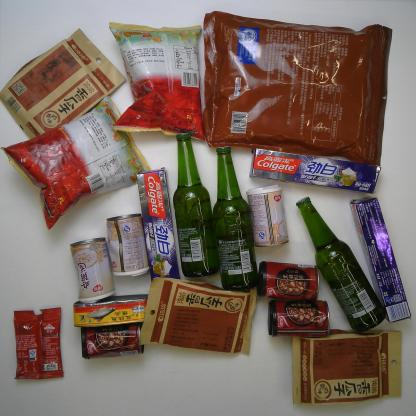Alcohol: (294, 197, 388, 333), (210, 146, 260, 291), (172, 132, 220, 278)
Canned Food: (69, 237, 116, 303), (245, 184, 290, 249), (106, 212, 150, 277), (72, 293, 149, 328), (257, 260, 320, 302), (267, 299, 331, 339), (79, 322, 146, 360)
Dried Food: (197, 9, 395, 167), (0, 24, 128, 141), (138, 277, 258, 358), (290, 328, 405, 406)
Instant Drink: (12, 305, 65, 381)
Personal Hygiene: (349, 193, 412, 324), (248, 146, 382, 194), (135, 165, 181, 286)
Puffed Food: (0, 94, 152, 231), (107, 20, 206, 142)
